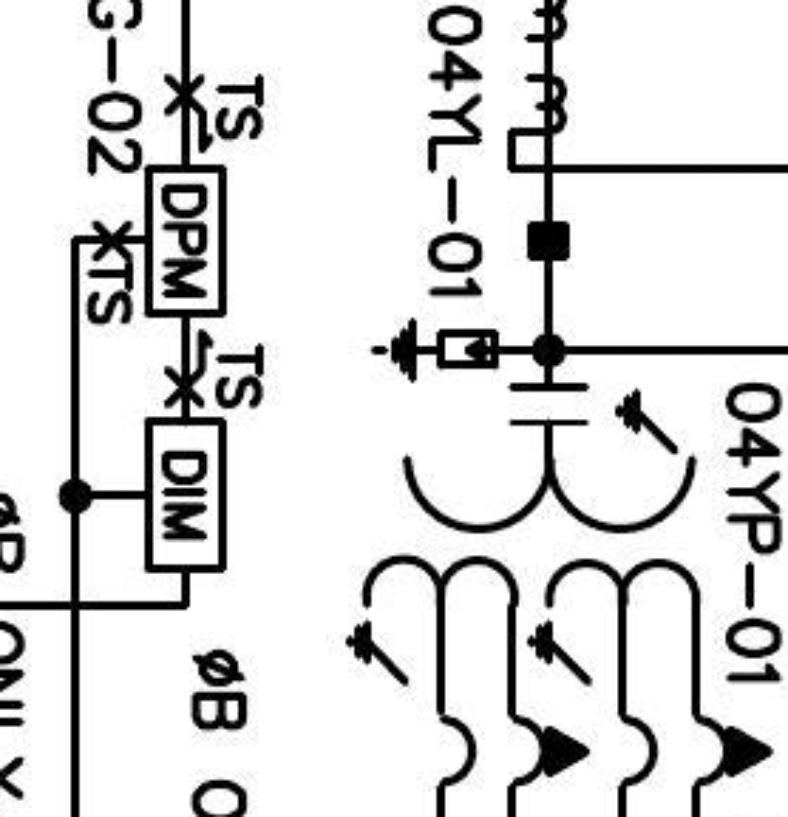115_cvt_1p: (342, 381, 775, 794)
115_la: (369, 316, 500, 384)
DIM: (143, 418, 227, 573)
DPM: (144, 164, 227, 319)
